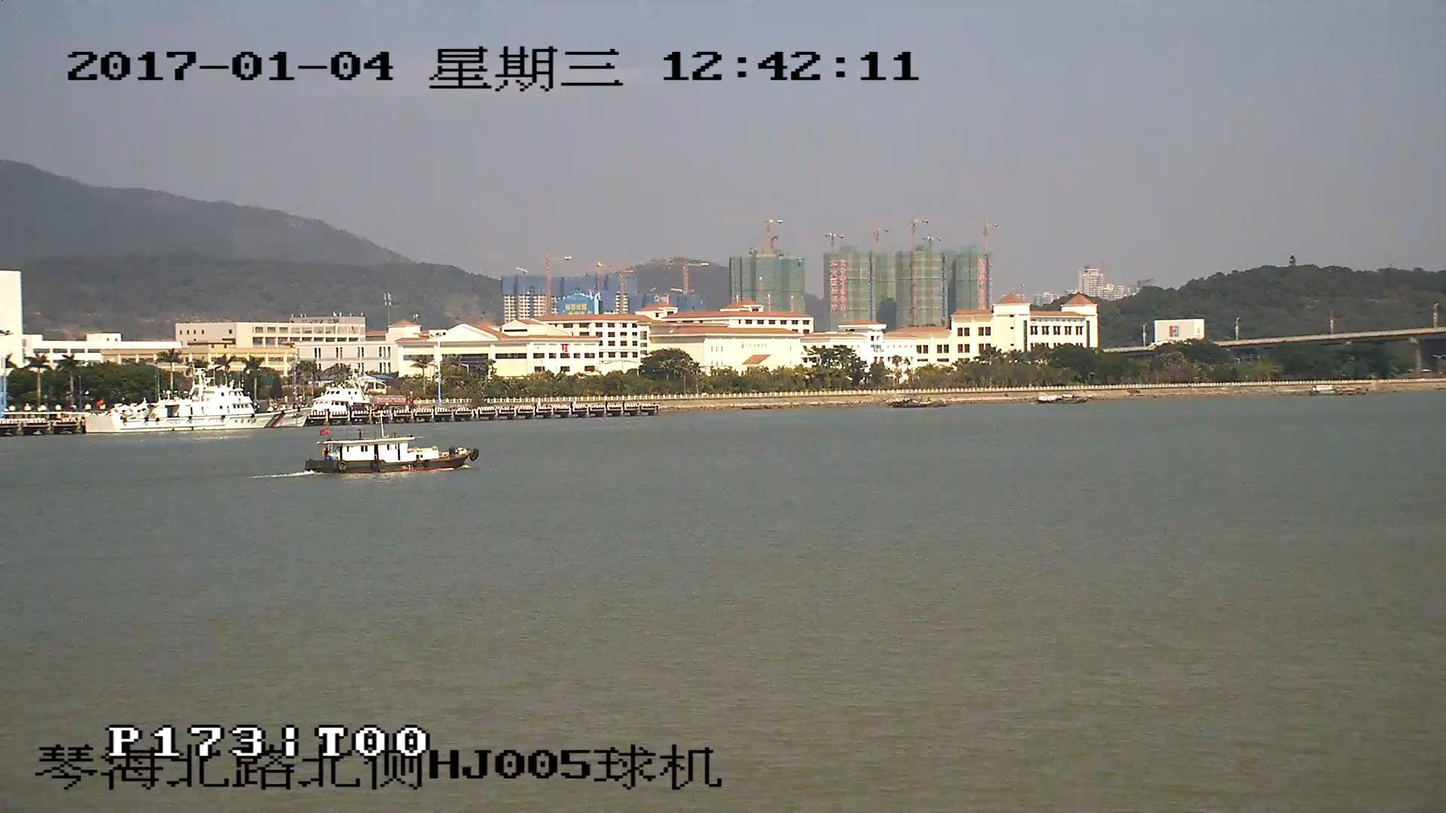fishing boat: (306, 428, 480, 475)
